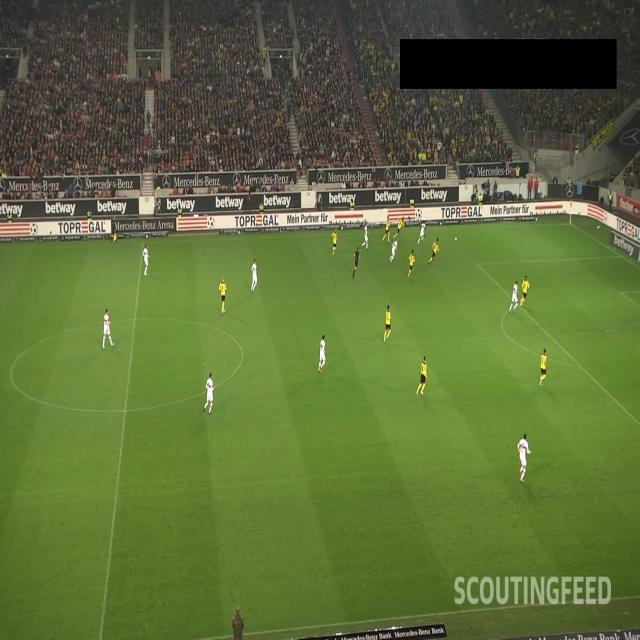ball: (454, 236, 458, 242)
